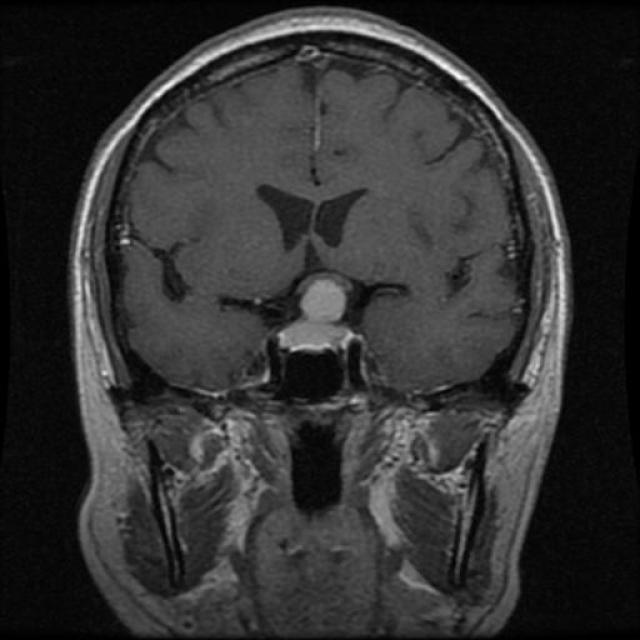pituitary: (270, 272, 374, 372)
